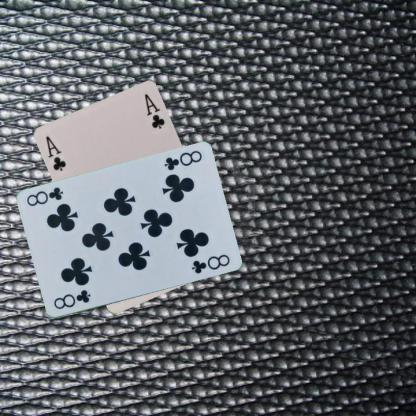8c: (161, 148, 203, 172), (51, 287, 92, 311)
Ac: (43, 133, 68, 173)
